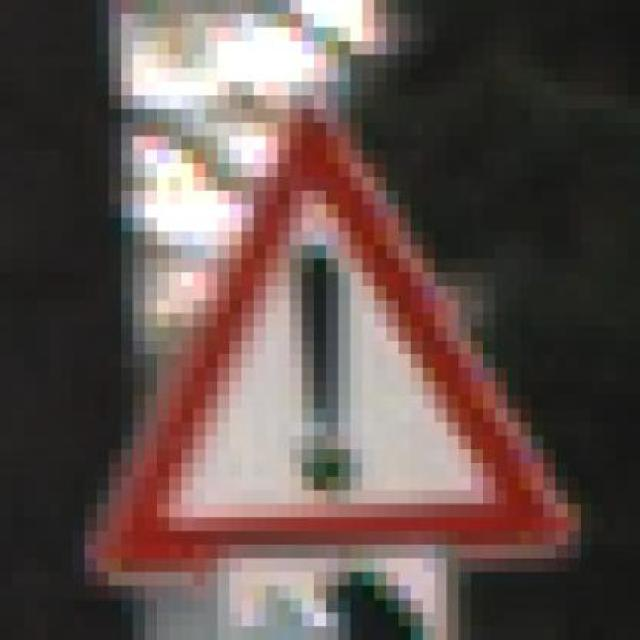Attention Please-: (60, 82, 592, 586)
